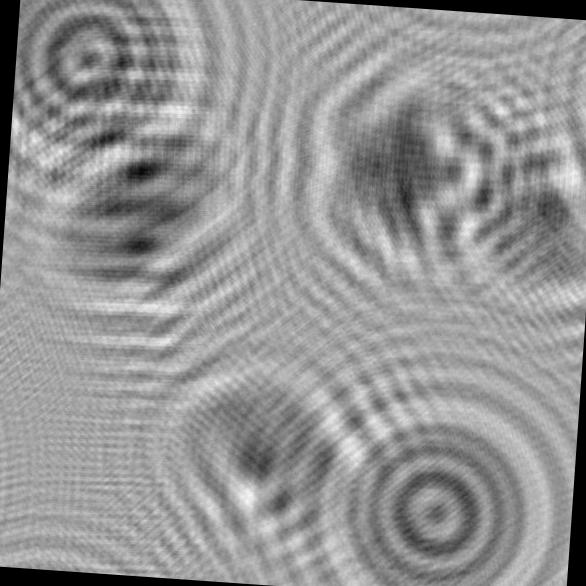K: (270, 31, 522, 312)
L: (107, 325, 406, 586), (427, 56, 586, 351)
N: (7, 106, 277, 351)
O: (301, 365, 577, 586), (8, 0, 210, 174)
